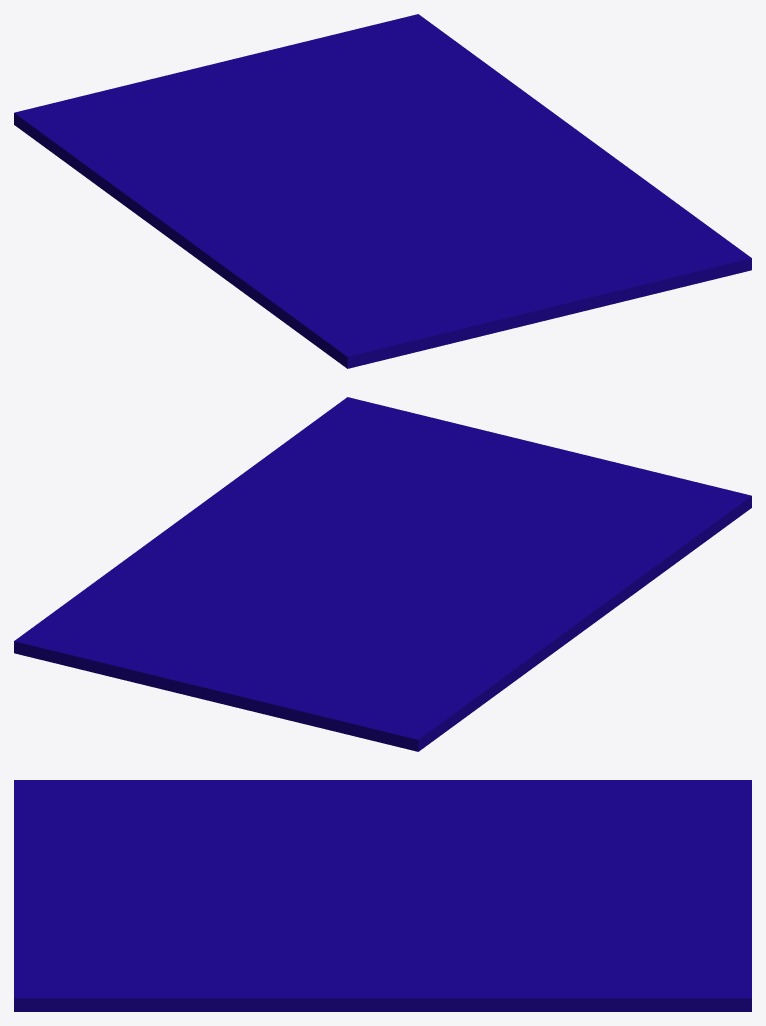
The model's file is Street_02.fbx.
The picture shows the model from 3 angles, top to bottom: view 1: azimuth 30°, elevation 25°; view 2: azimuth 150°, elevation 25°; view 3: azimuth 270°, elevation 25°; orthographic projection. The views are drawn at different scales.
Visible parts, largest first — view 1: Box001; view 2: Box001; view 3: Box001.
Boxes of the visible parts, box(x1,y1,x2,y2) form: Box001: box(14, 14, 751, 368); Box001: box(14, 397, 751, 751); Box001: box(14, 780, 751, 1011).
Bounding box in the file's own units: 138 × 197 × 3.94.
